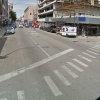Crosswalk: (18, 42, 100, 100)
